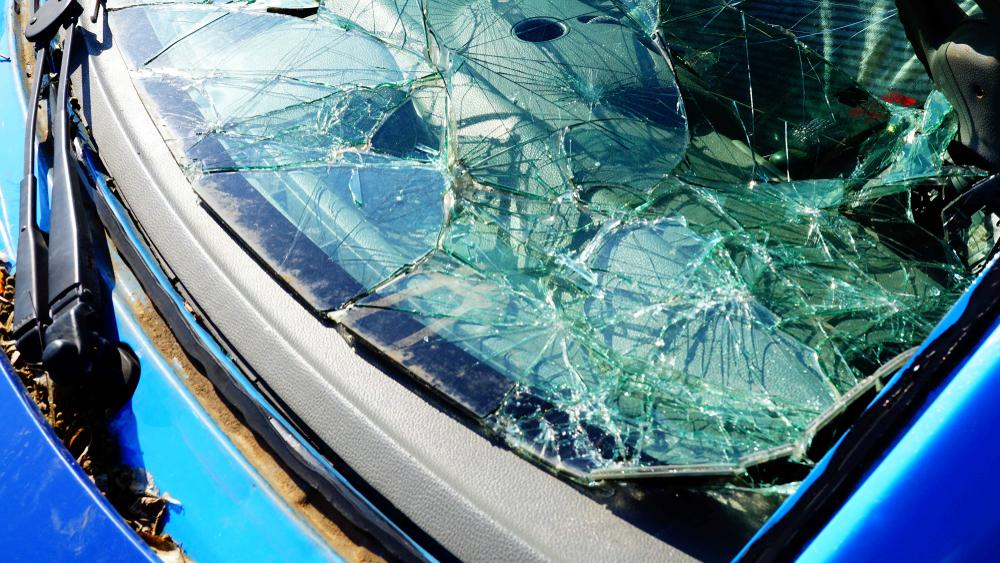glass shatter: (104, 0, 1000, 475)
